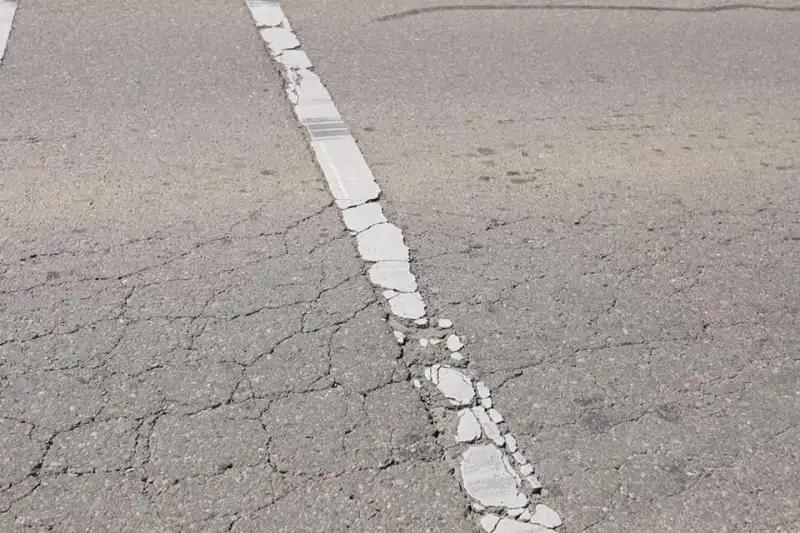faded_road_lines: (245, 0, 431, 347), (410, 332, 561, 532), (0, 0, 30, 82)
